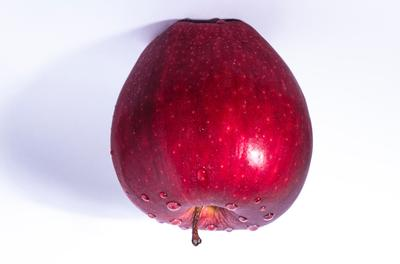apple: (0, 0, 400, 264)
